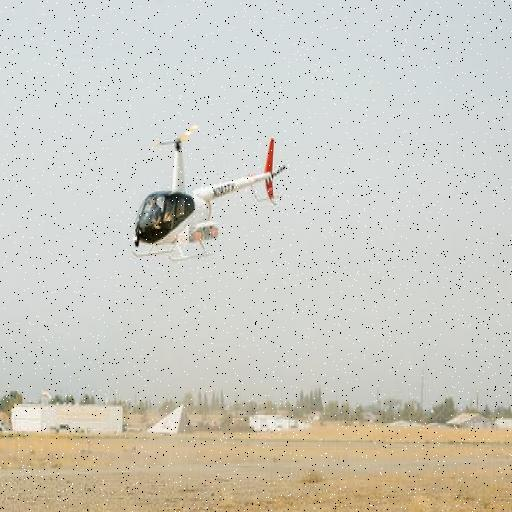helicopter: (134, 122, 286, 263)
